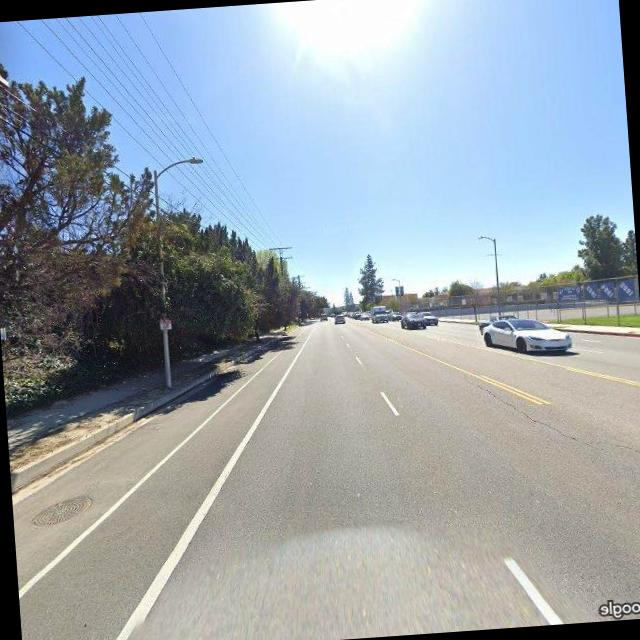pothole: (477, 369, 640, 482)
